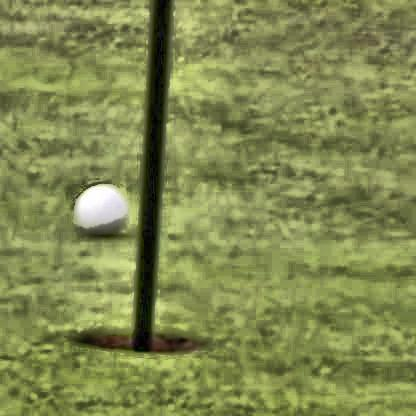golfball: (72, 182, 126, 233)
